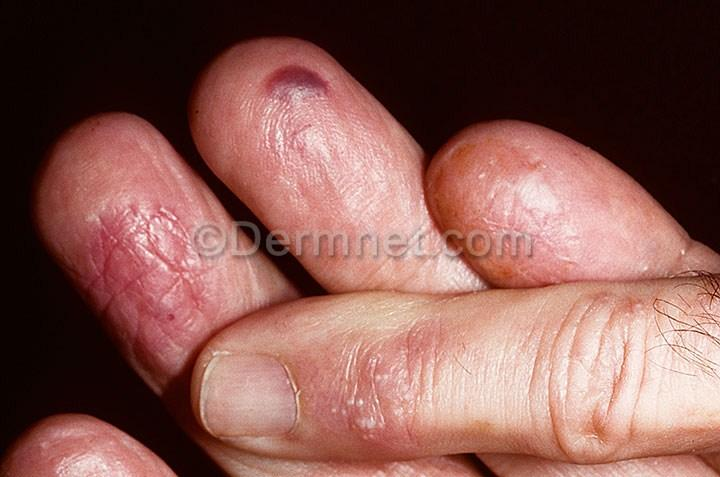Eczema: (93, 211, 209, 309), (508, 149, 598, 227), (49, 183, 128, 265), (105, 151, 199, 209), (331, 373, 406, 438), (323, 174, 386, 248), (491, 203, 555, 272), (313, 340, 416, 380), (331, 109, 393, 175), (433, 186, 499, 247), (403, 322, 471, 380), (477, 237, 570, 279), (295, 370, 342, 453), (65, 149, 132, 205), (285, 206, 348, 260), (261, 64, 330, 113), (453, 143, 521, 192), (387, 240, 454, 287), (552, 217, 608, 272), (240, 101, 293, 158), (379, 171, 425, 236), (296, 121, 346, 180), (142, 298, 212, 338), (264, 162, 316, 215), (401, 377, 442, 441), (605, 185, 657, 228), (142, 338, 178, 393), (108, 438, 158, 477), (55, 421, 112, 454), (619, 288, 662, 327), (109, 124, 161, 154), (96, 314, 146, 345), (592, 282, 627, 320), (459, 429, 537, 445), (30, 429, 60, 468), (60, 455, 105, 475), (176, 333, 201, 366), (9, 454, 30, 477)
